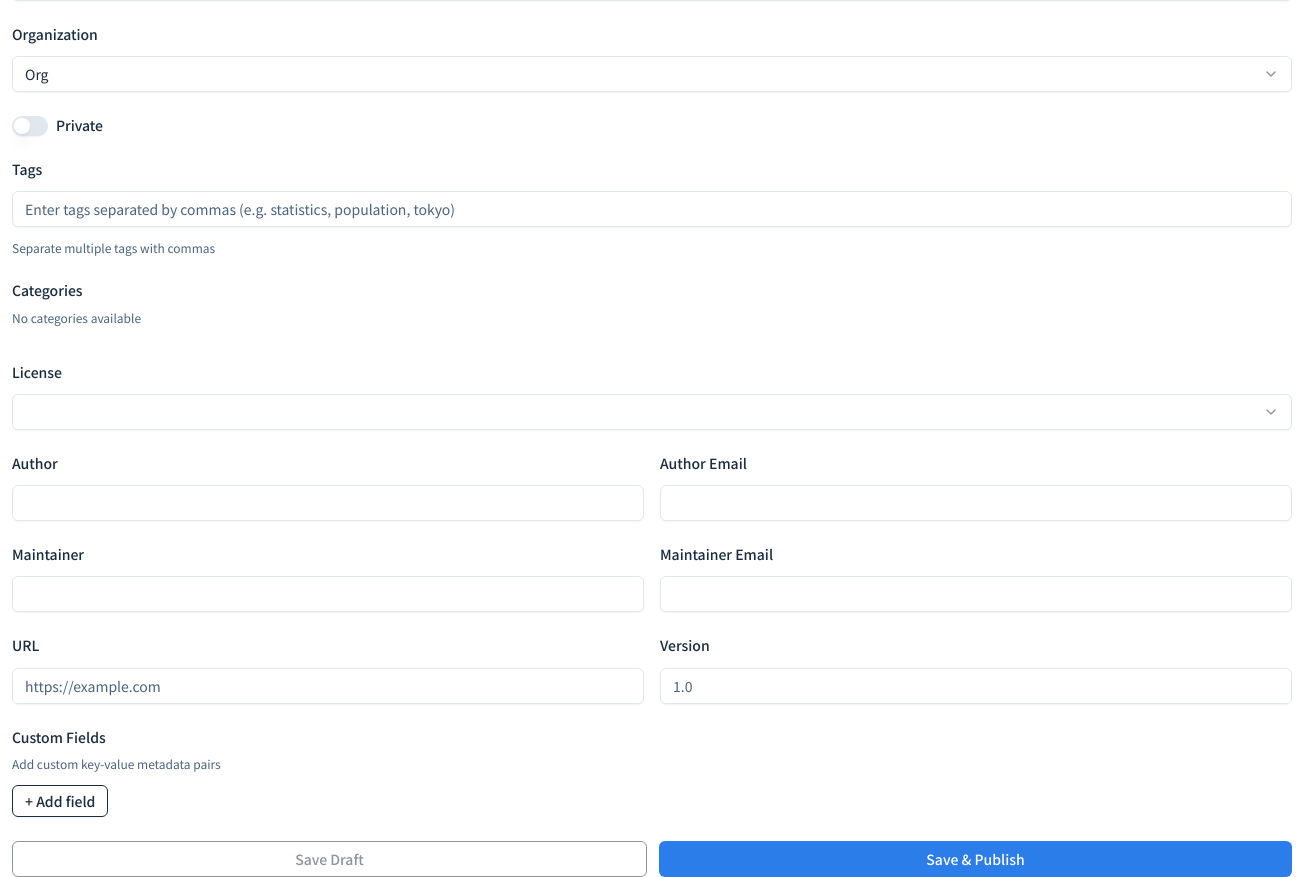
Test: DatasetForm (draft flows) › edit mode (draft) — save & publish › should keep a rejected publish request from reading as a failed save
The image size is (1304, 877).
(page scrolled)
What coordinates should you click on to do the following:
click the button "Save & Publish"
I would click on:
 (976, 859)
Its box is [659,841,1292,876].
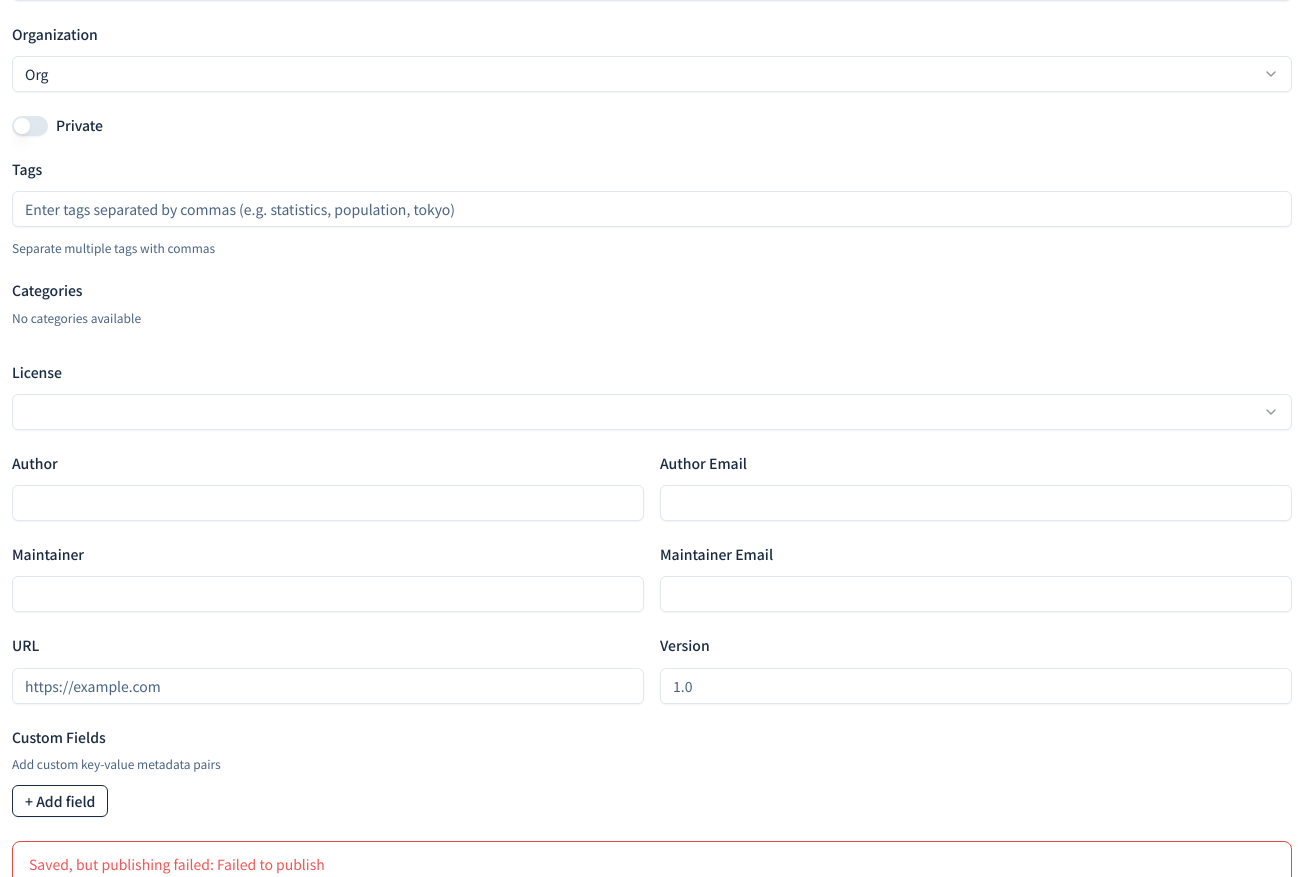
Result: the text "Saved, but publishing failed: Failed to publish" is shown at [29,854,325,874]
